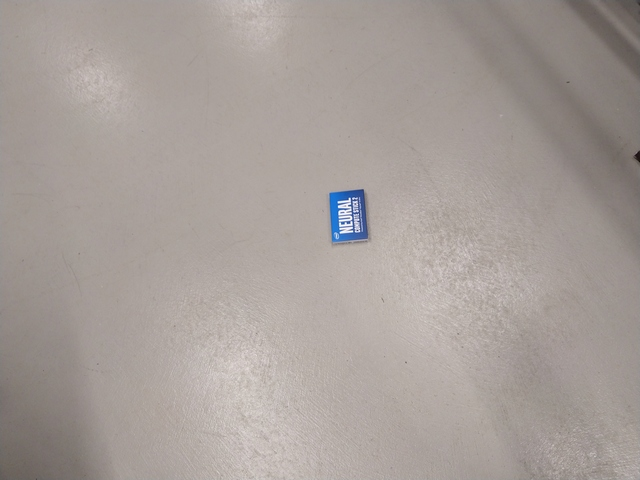box: (329, 189, 369, 244)
